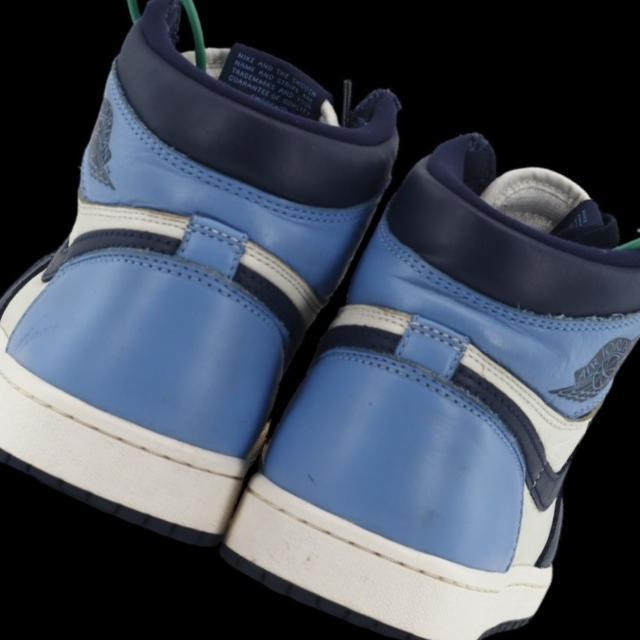nike original jordan 1: (0, 0, 424, 570), (206, 95, 640, 640)
